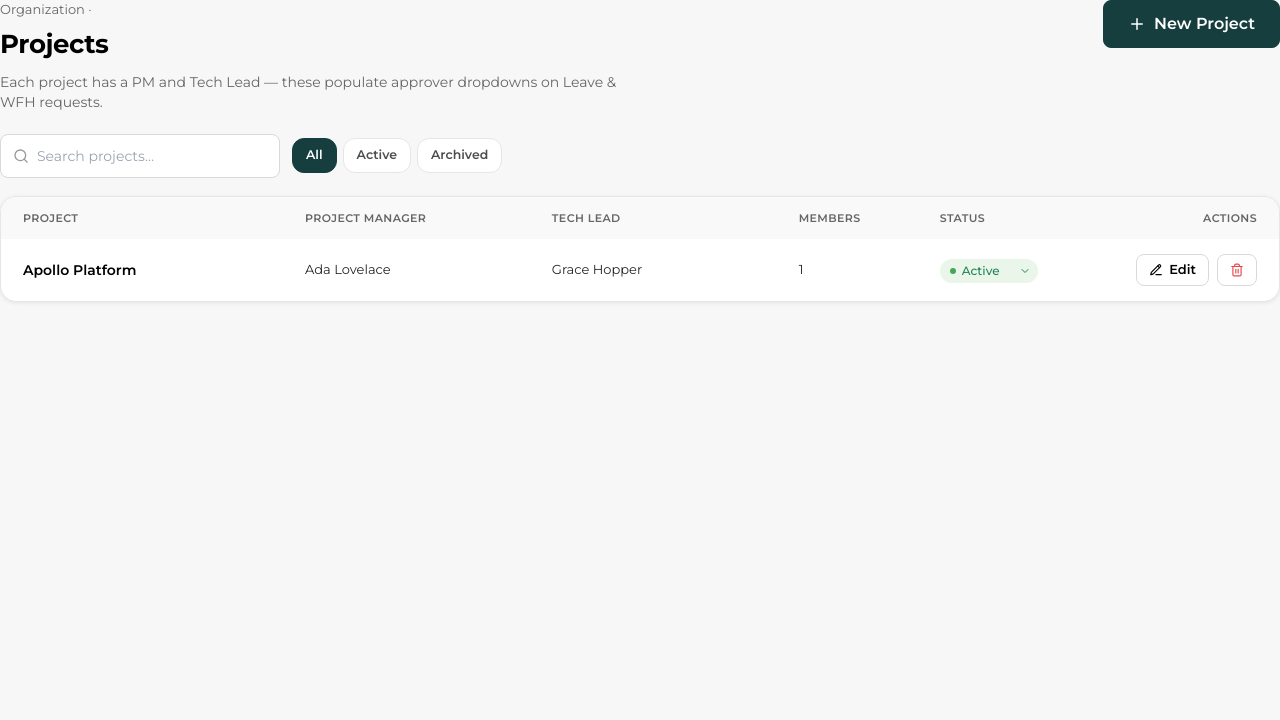
deleting a project with assignments surfaces the reason and keeps the dialog open
expect the text "Apollo Platform" is shown: met, box [23,261,136,279]
Step 1. Click the button named "Delete Apollo Platform" → {"x": 1237, "y": 270}, box [1217,254,1257,286]
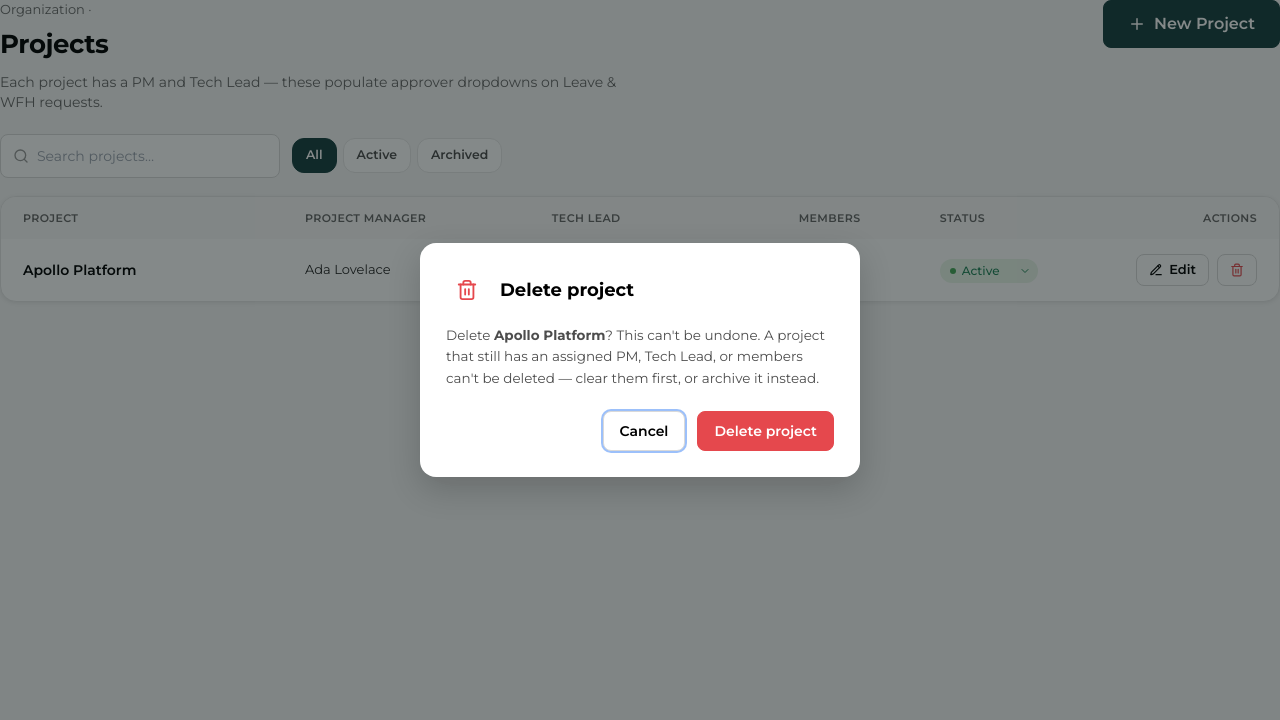
Step 2. Click the button "Delete project" → {"x": 766, "y": 431}, box [697,411,834,451]
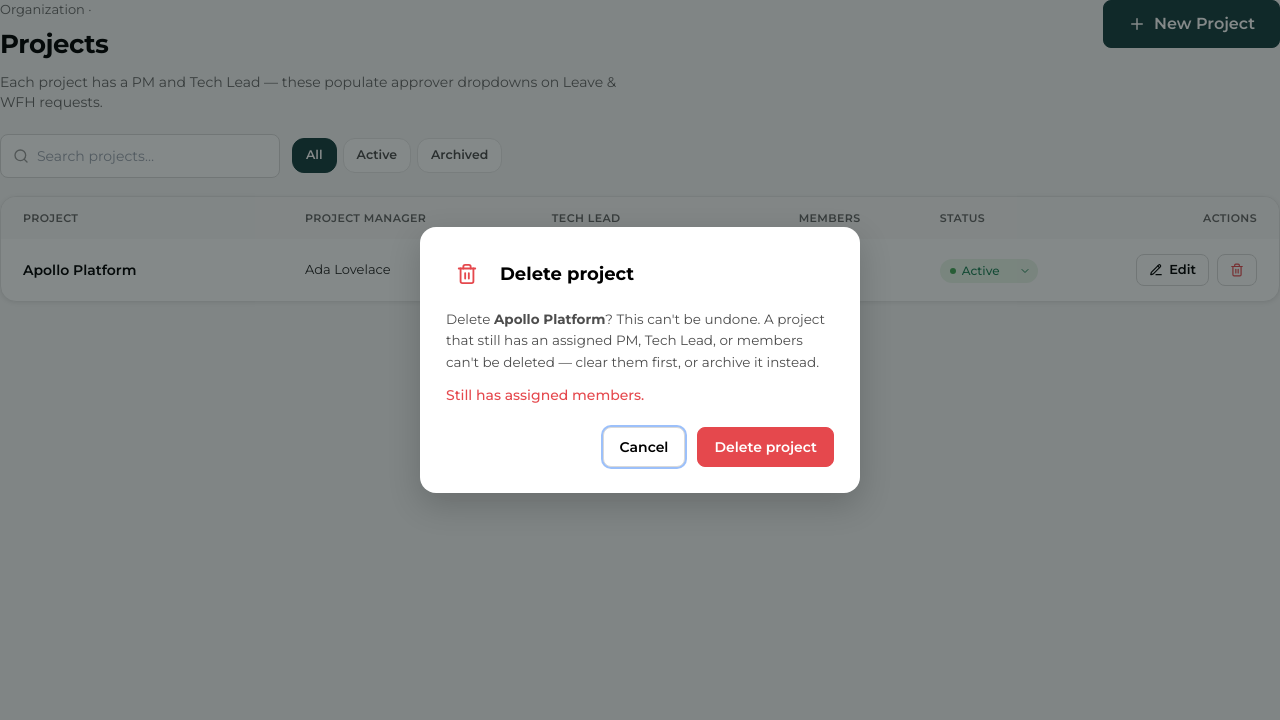
expect the dialog is shown: met, box [420,227,860,493]
expect the text "Still has assigned members." is shown: met, box [446,386,644,404]
